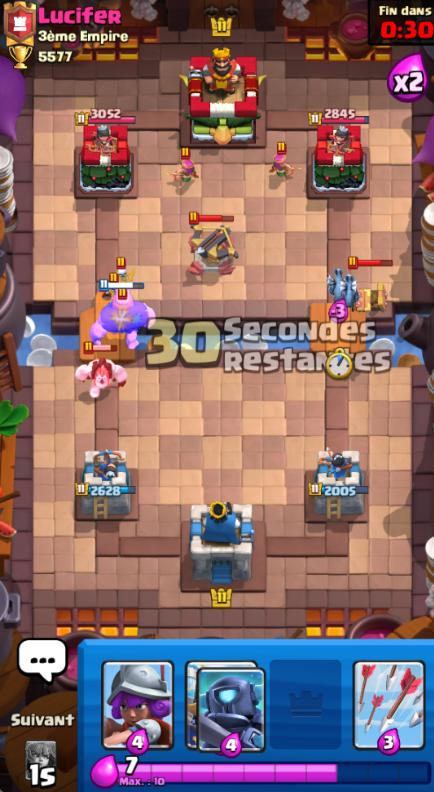archere: (165, 160, 204, 196), (265, 153, 302, 186)
gargouille: (343, 270, 361, 307), (328, 265, 344, 304)
geant: (92, 292, 153, 347)
squelette: (114, 265, 139, 283)
